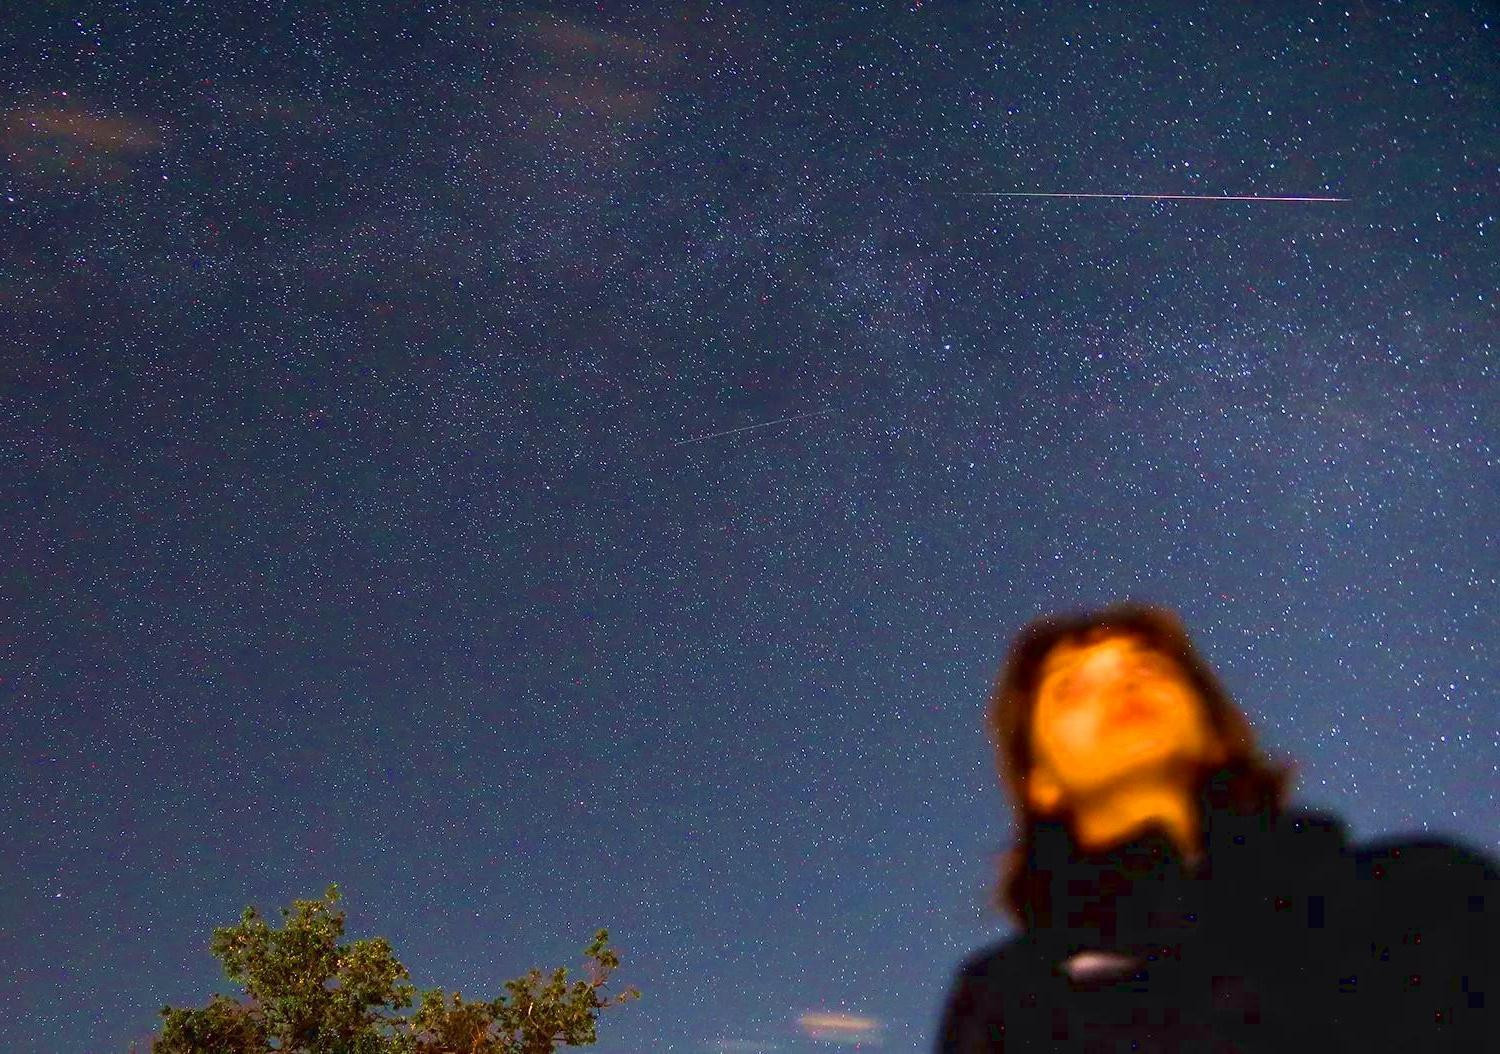meteorite: (939, 167, 1361, 229), (672, 394, 835, 469)
